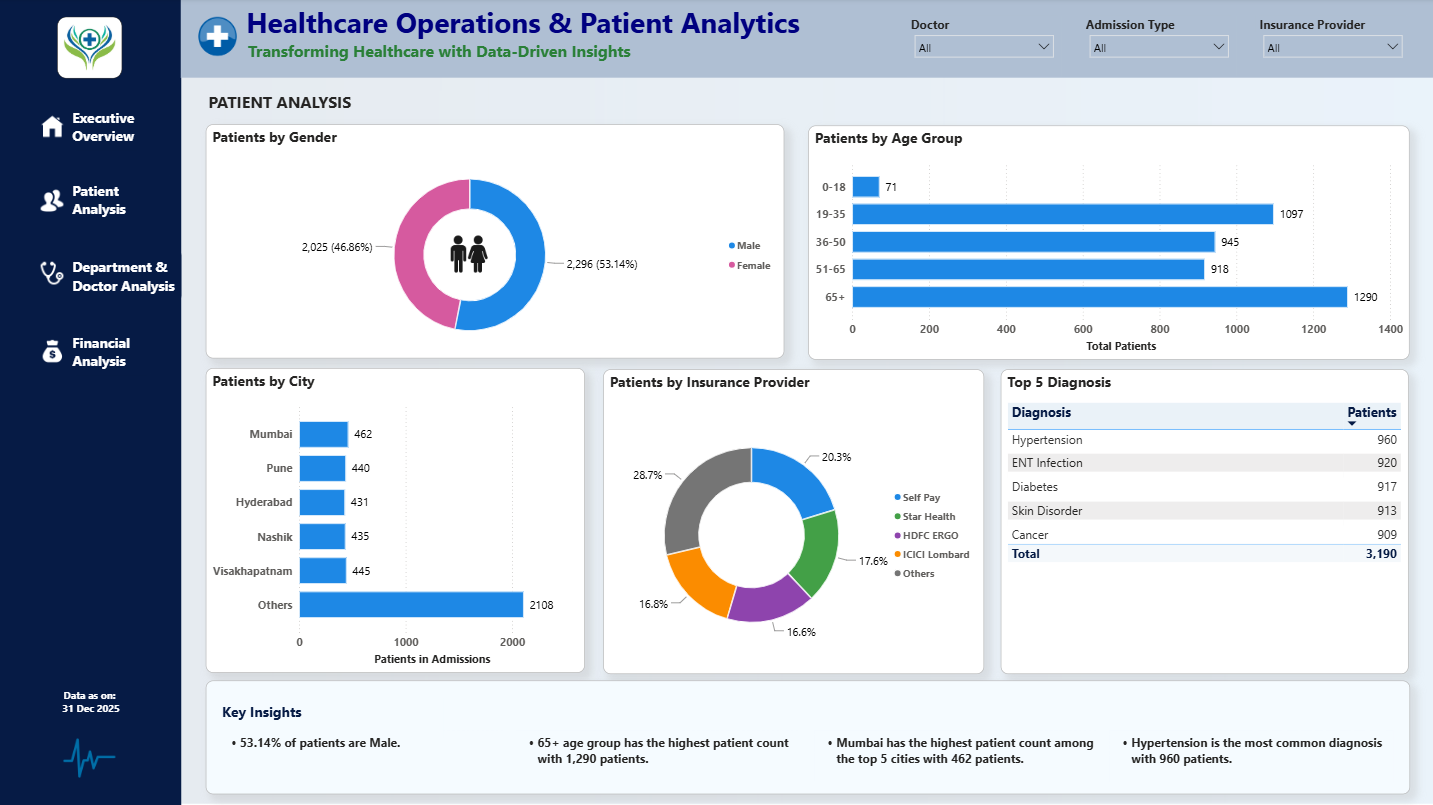

What the dashboard file says about the page in this screenshot:
{"tool":"powerbi","page":{"name":"Patient Analysis","canvas":[1920,1080],"ordinal":1},"visuals":[{"type":"group","id":"g1","title":"Group 1","box":[0,1.8,1920.1,1078.6],"z":0},{"type":"shape","box":[0,1.8,246.1,1078.6],"z":1000,"group":"g1"},{"type":"shape","box":[97.7,139.3,95.9,65.1],"z":1000},{"type":"textbox","box":[246.1,1.8,1673.9,105],"z":2000,"group":"g1"},{"type":"image","box":[54.3,157.4,37.4,30.2],"z":2000},{"type":"image","box":[79.6,25.3,86.9,82],"z":3000,"group":"g1"},{"type":"shape","box":[97.7,235.3,133.9,67],"z":3000},{"type":"image","box":[54.3,255.2,37,30],"z":4000},{"type":"shape","box":[97.7,336.6,148.4,67],"z":5000},{"type":"image","box":[54.3,352.9,37,30],"z":6000},{"type":"shape","box":[97.7,439.7,108.6,65.1],"z":7000},{"type":"image","box":[54.3,447,37.4,48.3],"z":8000},{"type":"actionButton","box":[45.2,437.9,166.5,65.1],"z":9000},{"type":"actionButton","box":[39.8,139.8,166.5,65.1],"z":10000},{"type":"actionButton","box":[39.8,239.2,166.5,65.1],"z":11000},{"type":"actionButton","box":[39.8,338.6,206.3,65.1],"z":12000},{"type":"image","box":[14.5,980.8,217,70],"z":12000,"group":"g1"},{"type":"image","box":[264.2,25.3,61.5,59.7],"z":13000,"group":"g1"},{"type":"textbox","box":[277.9,118.2,249.7,39.8],"z":13000},{"type":"donutChart","title":"Patients by Gender","fields":{"Category":["Admissions.Patient Gender"],"Y":["Admissions.Patients by Gender"]},"box":[278.7,169.5,772.7,313.1],"z":14000},{"type":"image","box":[605.1,317.4,53.6,49.6],"z":15000},{"type":"clusteredBarChart","title":"Patients by Age Group","fields":{"Category":["Admissions.Patient Age Group"],"Y":["Admissions.Patients in Admissions"]},"box":[1083.2,170.6,803.5,313.1],"z":16000},{"type":"clusteredBarChart","title":"Patients by City","fields":{"Y":["Admissions.Patients in Admissions"],"Category":["Admissions.Patient City Group"]},"box":[278.7,494,506.7,407.2],"z":17000},{"type":"donutChart","title":"Patients by Insurance Provider","fields":{"Category":["Admissions.Patient Insurance Provider Group"],"Y":["Admissions.Patients in Admissions"]},"box":[809.4,496,508.5,407.2],"z":18000},{"type":"tableEx","title":"Top 5 Diagnosis","fields":{"Values":["Admissions.Diagnosis","Admissions.Total Patients by Diagnosis"]},"box":[1341.1,496,544.7,407.2],"z":19000},{"type":"shape","box":[278.7,912.1,1608.8,152],"z":20000},{"type":"textbox","box":[295,979,380,67],"z":21000},{"type":"textbox","box":[693.7,979,380,67],"z":22000},{"type":"textbox","box":[295,935.6,300.4,52.5],"z":23000},{"type":"textbox","box":[1092.4,979,380,67],"z":24000},{"type":"textbox","box":[1486.7,978.4,379.2,68.6],"z":25000},{"type":"slicer","title":"Admission Type","fields":{"Values":["Admissions.AdmissionType"]},"box":[1448.8,23.5,206,81],"z":26000},{"type":"slicer","title":"Insurance Provider","fields":{"Values":["Admissions.Patient Insurance Provider Group"]},"box":[1681.2,23.5,206,81],"z":27000},{"type":"slicer","title":"Doctor","fields":{"Values":["Doctors.DoctorName"]},"box":[1216.1,23.9,206.3,81.4],"z":44000,"group":"g1"},{"type":"textbox","box":[14.5,917.5,217.2,54.3],"z":51000,"group":"g1"}]}

Visuals, with their boxes on the page's 1920x1080 design canvas (x1, y1, x2, y2). These are canvas units, not pixel positions in the 1433x805 screenshot, which may show the page scaled, cropped or inside an application window:
"Group 1" group: pyautogui.locateOnScreen(0, 2, 1920, 1080)
shape: pyautogui.locateOnScreen(0, 2, 246, 1080)
shape: pyautogui.locateOnScreen(98, 139, 194, 204)
textbox: pyautogui.locateOnScreen(246, 2, 1920, 107)
image: pyautogui.locateOnScreen(54, 157, 92, 188)
image: pyautogui.locateOnScreen(80, 25, 166, 107)
shape: pyautogui.locateOnScreen(98, 235, 232, 302)
image: pyautogui.locateOnScreen(54, 255, 91, 285)
shape: pyautogui.locateOnScreen(98, 337, 246, 404)
image: pyautogui.locateOnScreen(54, 353, 91, 383)
shape: pyautogui.locateOnScreen(98, 440, 206, 505)
image: pyautogui.locateOnScreen(54, 447, 92, 495)
actionButton: pyautogui.locateOnScreen(45, 438, 212, 503)
actionButton: pyautogui.locateOnScreen(40, 140, 206, 205)
actionButton: pyautogui.locateOnScreen(40, 239, 206, 304)
actionButton: pyautogui.locateOnScreen(40, 339, 246, 404)
image: pyautogui.locateOnScreen(14, 981, 232, 1051)
image: pyautogui.locateOnScreen(264, 25, 326, 85)
textbox: pyautogui.locateOnScreen(278, 118, 528, 158)
"Patients by Gender" donutChart: pyautogui.locateOnScreen(279, 170, 1051, 483)
image: pyautogui.locateOnScreen(605, 317, 659, 367)
"Patients by Age Group" clusteredBarChart: pyautogui.locateOnScreen(1083, 171, 1887, 484)
"Patients by City" clusteredBarChart: pyautogui.locateOnScreen(279, 494, 785, 901)
"Patients by Insurance Provider" donutChart: pyautogui.locateOnScreen(809, 496, 1318, 903)
"Top 5 Diagnosis" tableEx: pyautogui.locateOnScreen(1341, 496, 1886, 903)
shape: pyautogui.locateOnScreen(279, 912, 1888, 1064)
textbox: pyautogui.locateOnScreen(295, 979, 675, 1046)
textbox: pyautogui.locateOnScreen(694, 979, 1074, 1046)
textbox: pyautogui.locateOnScreen(295, 936, 595, 988)
textbox: pyautogui.locateOnScreen(1092, 979, 1472, 1046)
textbox: pyautogui.locateOnScreen(1487, 978, 1866, 1047)
"Admission Type" slicer: pyautogui.locateOnScreen(1449, 24, 1655, 104)
"Insurance Provider" slicer: pyautogui.locateOnScreen(1681, 24, 1887, 104)
"Doctor" slicer: pyautogui.locateOnScreen(1216, 24, 1422, 105)
textbox: pyautogui.locateOnScreen(14, 918, 232, 972)
